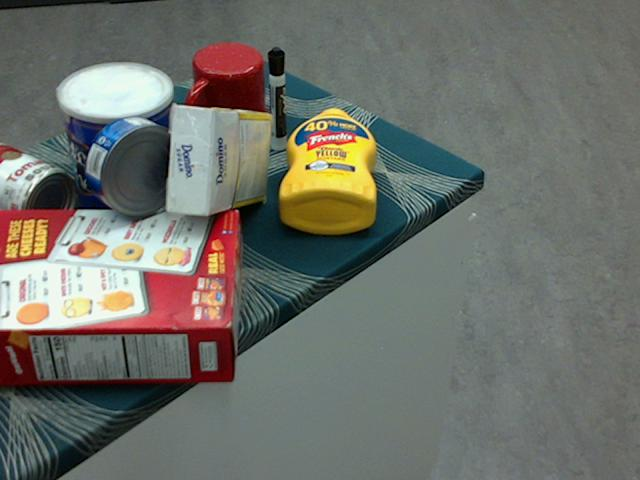cracker_box: (0, 208, 242, 383)
large_marker: (268, 46, 285, 151)
master_chef_can: (58, 64, 180, 243)
mug: (181, 43, 270, 141)
mustard_bottle: (279, 107, 377, 233)
potted_meat_can: (65, 95, 168, 182)
sugar_box: (166, 107, 270, 218)
tomato_soup_can: (0, 137, 76, 233)
tuna_fish_can: (84, 115, 187, 218)
